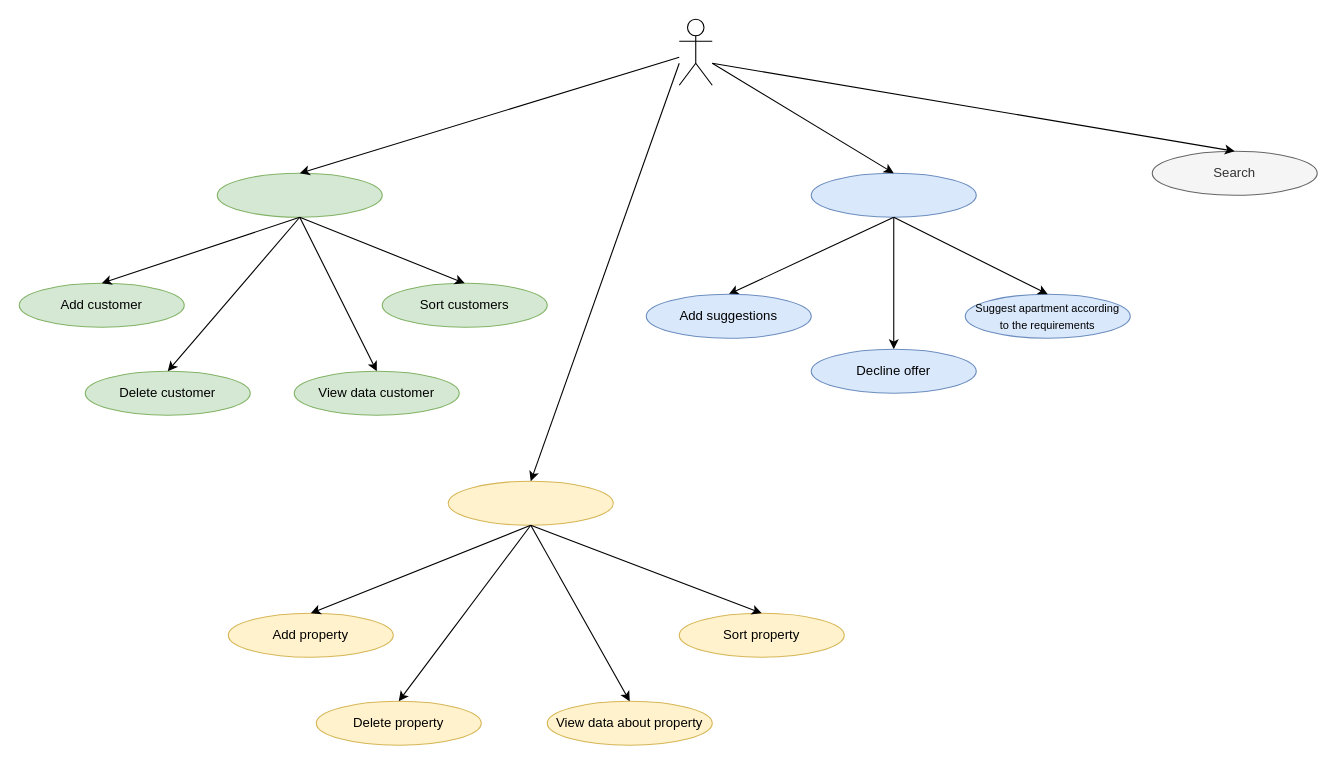
The diagram is 1337 pixels wide and 765 high, and some of its shapes have lost their labels. The shapes that lost their labels are listed below. From the top down, each one's centre as x and y in pixels, then its label:
At point (695, 51): "Worker".
At point (299, 194): "Manage customers".
At point (893, 194): "Manage real estate".
At point (530, 502): "Manage offers".
